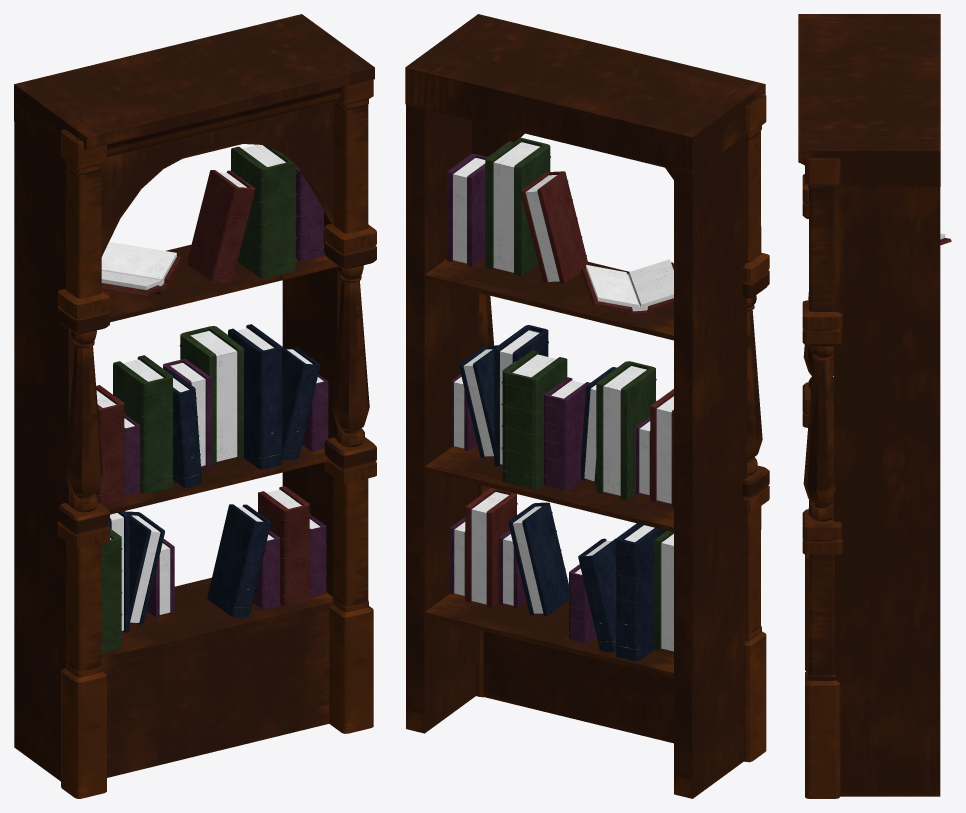
File: SM_BookShelf_02.fbx
3 renders of one model, left to right at view 1: azimuth 30°, elevation 25°; view 2: azimuth 150°, elevation 25°; view 3: azimuth 270°, elevation 25°, orthographic. The views are drawn at different scales.
Parts seen in each view (by area): view 1: BoolShelf_Low.039, BoolShelf_Low.038, BoolShelf_Low.050, BoolShelf_Low.035, BoolShelf_Low.032, BoolShelf_Low.034, BoolShelf_Low.040, BoolShelf_Low.042, BoolShelf_Low.043, BoolShelf_Low.048, BoolShelf_Low.060, BoolShelf_Low.053 (+23 smaller); view 2: BoolShelf_Low.039, BoolShelf_Low.038, BoolShelf_Low.040, BoolShelf_Low.050, BoolShelf_Low.041, BoolShelf_Low.048, BoolShelf_Low.060, BoolShelf_Low.054, BoolShelf_Low.033, BoolShelf_Low.037, BoolShelf_Low.035, BoolShelf_Low.007 (+21 smaller); view 3: BoolShelf_Low.040, BoolShelf_Low.038, BoolShelf_Low.032, BoolShelf_Low.043, BoolShelf_Low.031, BoolShelf_Low.035, BoolShelf_Low.036.
Boxes of the visible parts, x1,y1,x2,y2 form: BoolShelf_Low.039: [14, 103, 74, 781]; BoolShelf_Low.038: [14, 14, 374, 157]; BoolShelf_Low.050: [101, 601, 332, 777]; BoolShelf_Low.035: [58, 502, 109, 798]; BoolShelf_Low.032: [324, 437, 376, 733]; BoolShelf_Low.034: [101, 102, 333, 256]; BoolShelf_Low.040: [282, 212, 341, 596]; BoolShelf_Low.042: [58, 129, 109, 334]; BoolShelf_Low.043: [324, 79, 376, 269]; BoolShelf_Low.048: [231, 144, 296, 278]; BoolShelf_Low.060: [113, 355, 173, 493]; BoolShelf_Low.053: [228, 324, 282, 469]; BoolShelf_Low.039: [674, 118, 747, 798]; BoolShelf_Low.038: [405, 14, 765, 174]; BoolShelf_Low.040: [406, 104, 478, 733]; BoolShelf_Low.050: [483, 631, 673, 743]; BoolShelf_Low.041: [423, 257, 673, 340]; BoolShelf_Low.048: [485, 137, 550, 276]; BoolShelf_Low.060: [596, 361, 656, 499]; BoolShelf_Low.054: [501, 350, 567, 489]; BoolShelf_Low.033: [423, 593, 673, 677]; BoolShelf_Low.037: [423, 444, 673, 532]; BoolShelf_Low.035: [742, 465, 769, 762]; BoolShelf_Low.007: [615, 523, 666, 661]; BoolShelf_Low.040: [834, 186, 940, 796]; BoolShelf_Low.038: [798, 14, 940, 186]; BoolShelf_Low.032: [802, 509, 842, 798]; BoolShelf_Low.043: [802, 158, 842, 346]; BoolShelf_Low.031: [803, 346, 835, 521]; BoolShelf_Low.035: [802, 382, 833, 670]; BoolShelf_Low.036: [803, 292, 833, 389].
Bounding box in the file's own units: 227 × 476 × 103.
